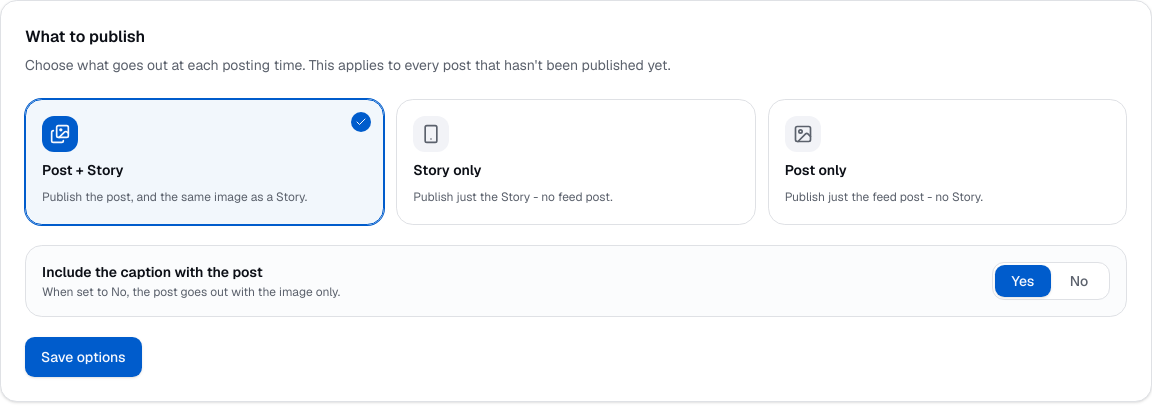
Test: PublishOptionsCard › confirms once saved
Click the button "Save options".
click(83, 356)  # box [25, 336, 142, 376]
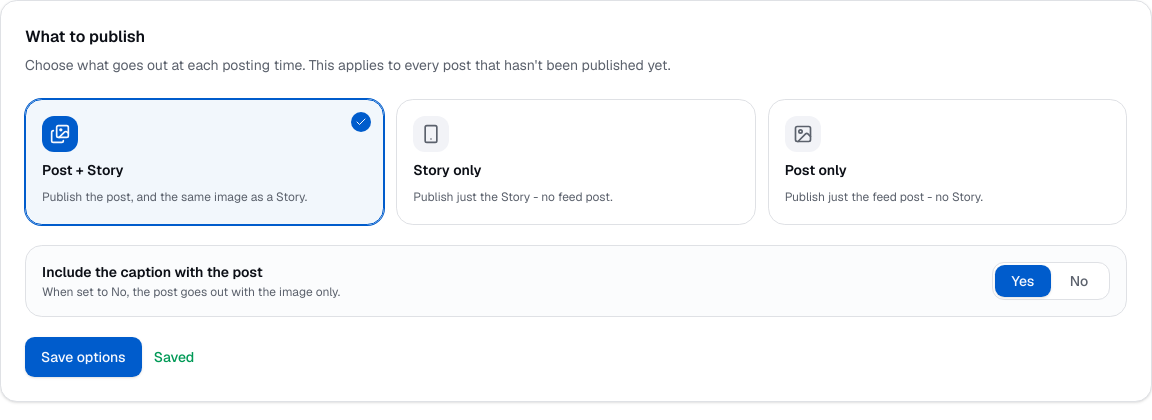
Result: the text "Saved" is shown at [154, 346, 194, 366]
